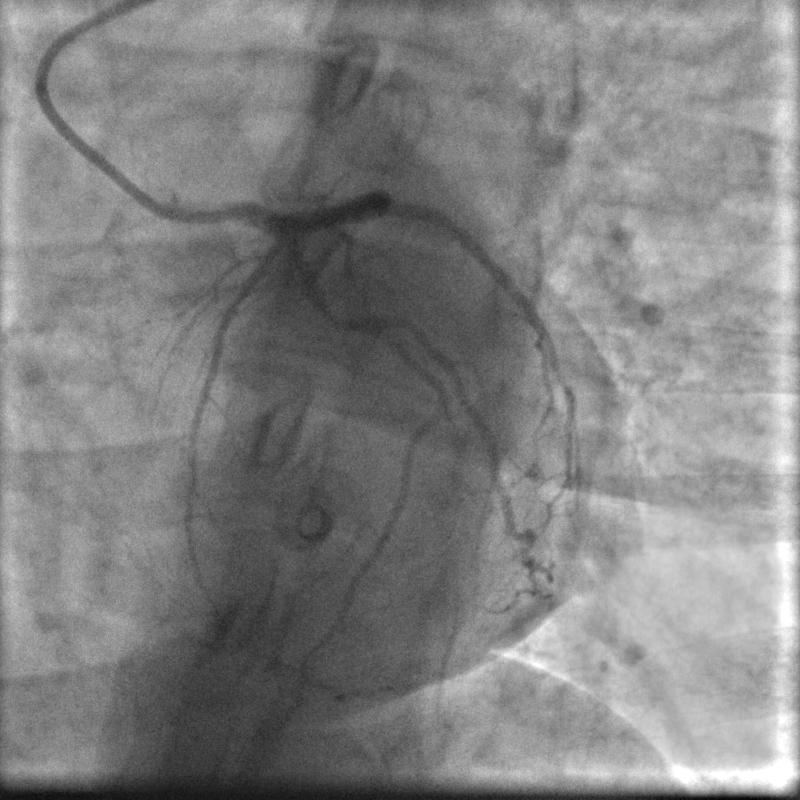Stenosis: (319, 293, 378, 339)
